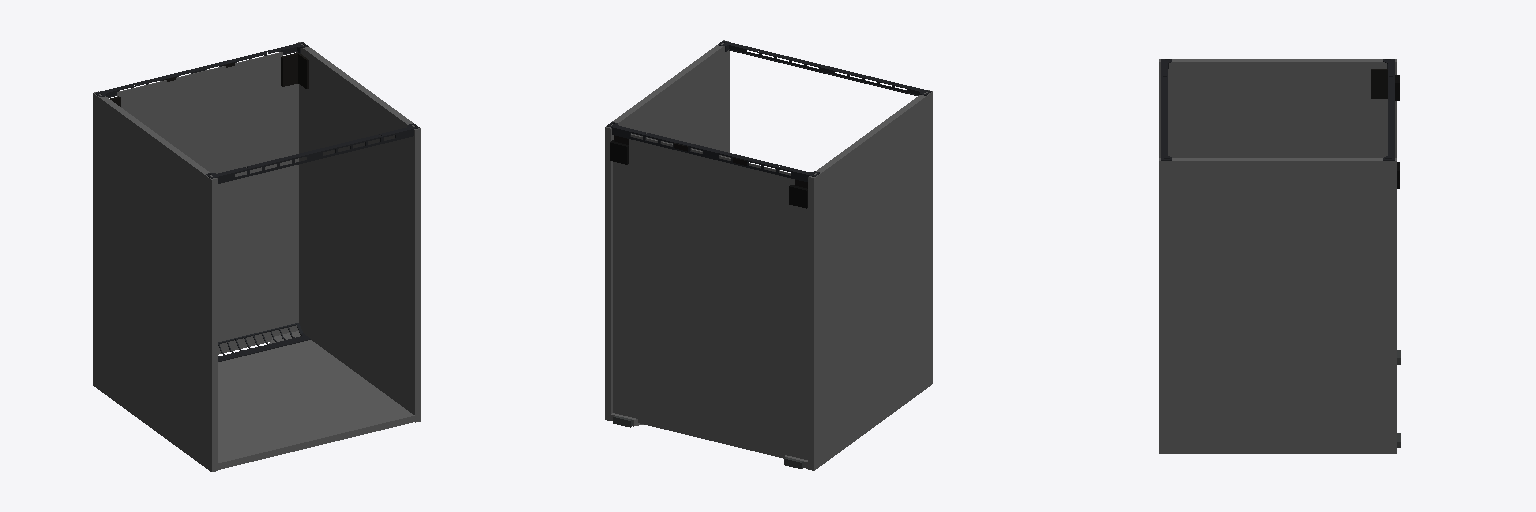
Rendered from IKEA.ART.70213569.obj.
3 views of the same model, side by side, from view 1: azimuth 30°, elevation 25°; view 2: azimuth 150°, elevation 25°; view 3: azimuth 270°, elevation 25° (orthographic).
Visible parts, largest first — view 1: model_model.063; view 2: model_model.063; view 3: model_model.063.
Part boxes in pixels (bbox=[...]): model_model.063: bbox=[93, 42, 420, 471]; model_model.063: bbox=[605, 40, 932, 470]; model_model.063: bbox=[1159, 59, 1400, 453].
Size of the model in its own units: 0.6 by 0.8015 by 0.6.